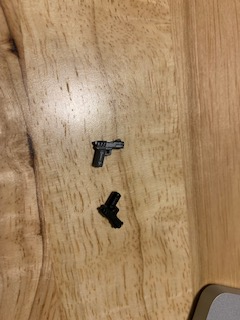pistol: (93, 189, 129, 235), (89, 136, 125, 172)
